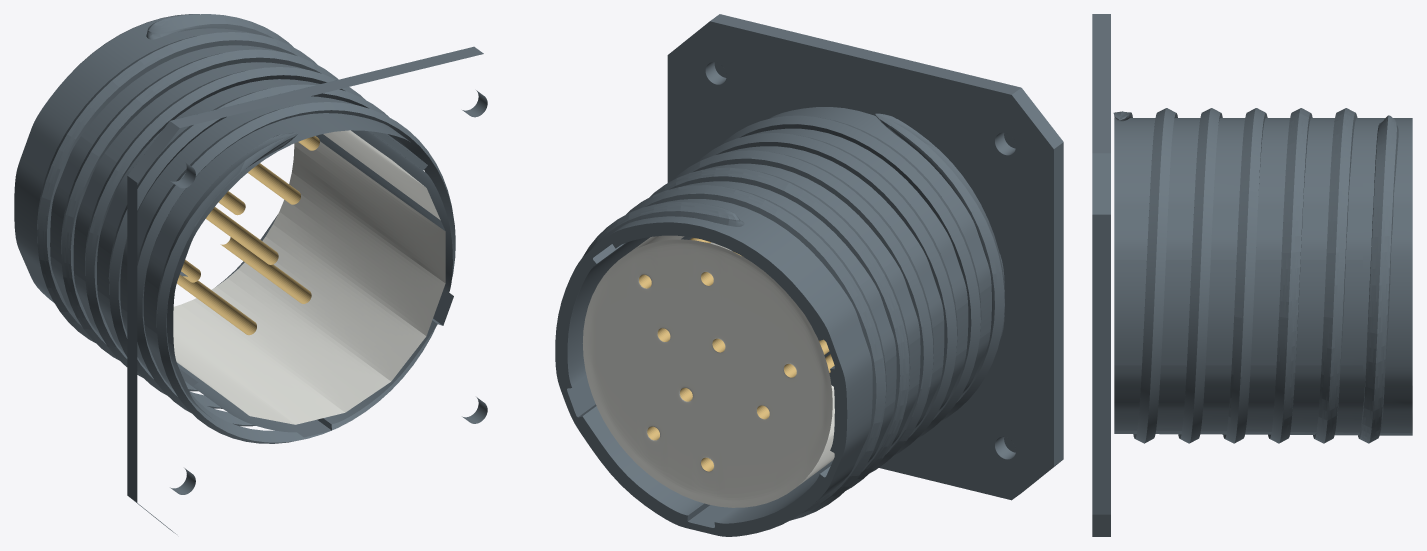
Rendered from CONN.glb.
3 renders of one model, left to right at view 1: azimuth 30°, elevation 25°; view 2: azimuth 150°, elevation 25°; view 3: azimuth 270°, elevation 25°, orthographic. The views are drawn at different scales.
Visible parts, largest first — view 1: CONN/0000_Arrel_female_connector_Object_6, CONN/0001_Arrel_female_connector_Object_7, CONN/0002_Arrel_female_connector_Object_8; view 2: CONN/0000_Arrel_female_connector_Object_6, CONN/0001_Arrel_female_connector_Object_7, CONN/0002_Arrel_female_connector_Object_8; view 3: CONN/0000_Arrel_female_connector_Object_6.
Boxes of the visible parts, x1=… form: CONN/0000_Arrel_female_connector_Object_6: x1=14, y1=14, x2=487, y2=534; CONN/0001_Arrel_female_connector_Object_7: x1=173, y1=130, x2=445, y2=424; CONN/0002_Arrel_female_connector_Object_8: x1=177, y1=136, x2=319, y2=335; CONN/0000_Arrel_female_connector_Object_6: x1=555, y1=14, x2=1063, y2=536; CONN/0001_Arrel_female_connector_Object_7: x1=582, y1=235, x2=834, y2=507; CONN/0002_Arrel_female_connector_Object_8: x1=639, y1=237, x2=834, y2=471; CONN/0000_Arrel_female_connector_Object_6: x1=1092, y1=14, x2=1412, y2=536.
Size of the model in its own units: 0.0678 by 0.068 by 0.0515.
